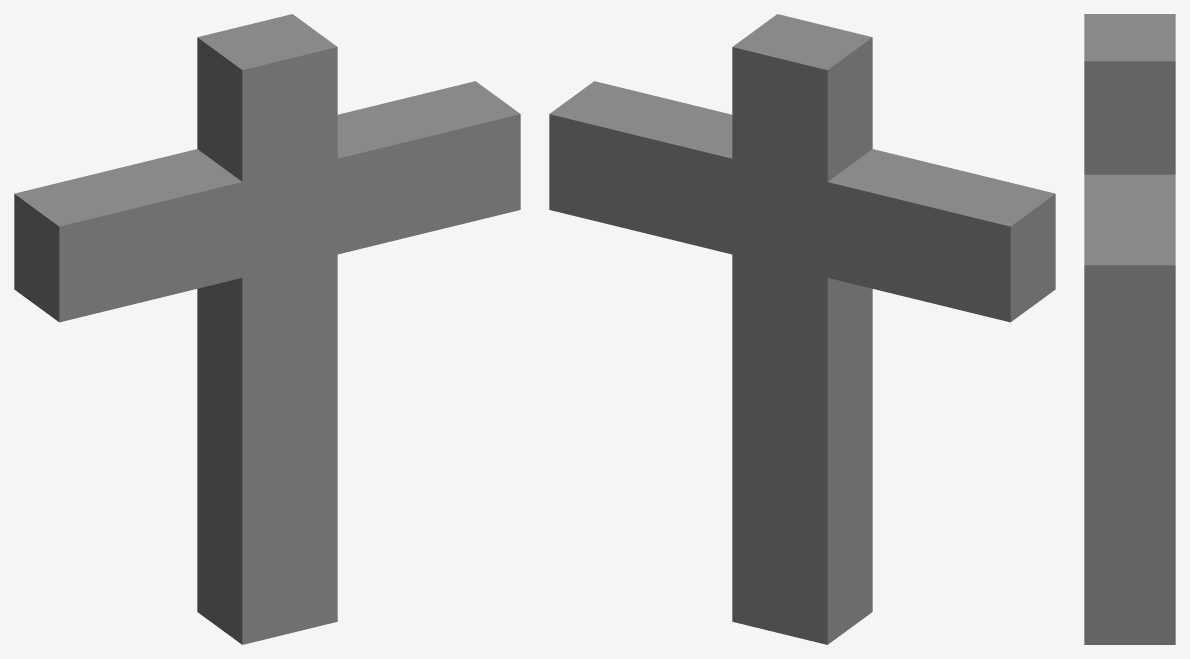
Rendered from headstone_07.fbx.
3 views of the same model, side by side, from view 1: azimuth 30°, elevation 25°; view 2: azimuth 150°, elevation 25°; view 3: azimuth 270°, elevation 25° (orthographic).
Parts seen in each view (by area): view 1: headstone_07; view 2: headstone_07; view 3: headstone_07.
Boxes of the visible parts, <box> form: headstone_07: <box>14,14,520,644</box>; headstone_07: <box>549,14,1055,644</box>; headstone_07: <box>1084,14,1175,644</box>.
Size of the model in its own units: 1.13 by 1.35 by 0.192.
